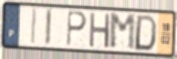D: (133, 14, 159, 52)
H: (88, 12, 112, 50)
I: (44, 8, 53, 48), (30, 8, 38, 46)
M: (109, 13, 137, 52)
P: (66, 9, 88, 47)
